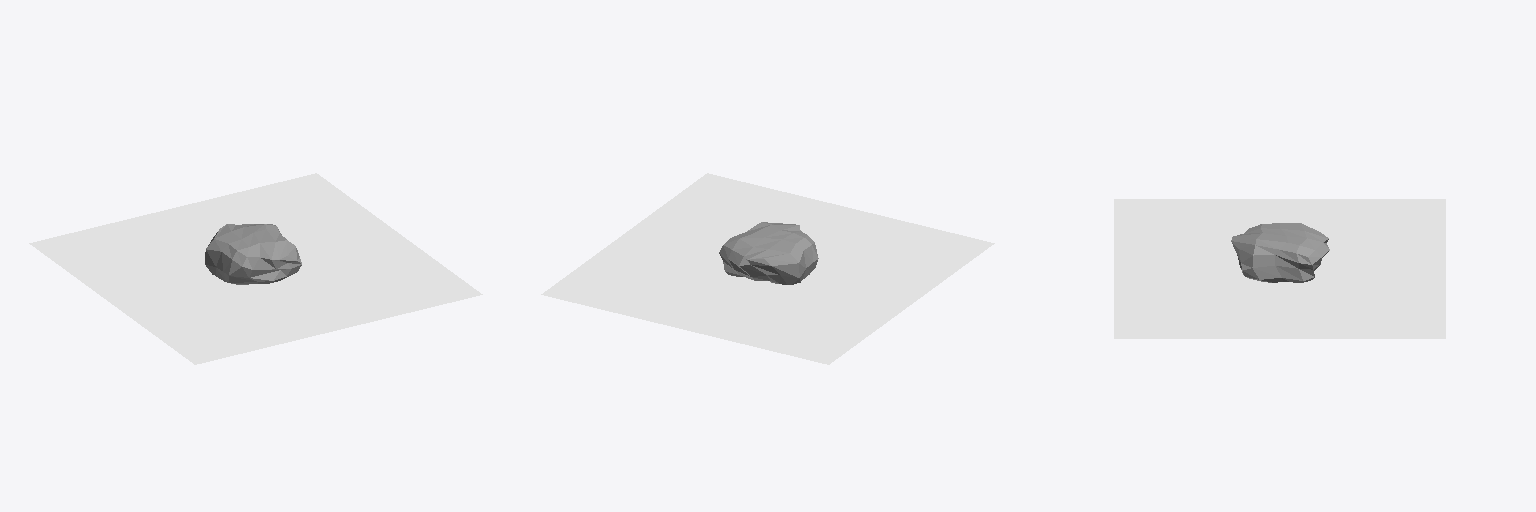
File: Rock1.obj
3 views of the same model, side by side, from view 1: azimuth 30°, elevation 25°; view 2: azimuth 150°, elevation 25°; view 3: azimuth 270°, elevation 25° (orthographic).
Parts seen in each view (by area): view 1: Plane, Cube; view 2: Plane, Cube; view 3: Plane, Cube.
Boxes of the visible parts, x1=… form: Plane: x1=29, y1=173, x2=482, y2=364; Cube: x1=205, y1=224, x2=301, y2=284; Plane: x1=541, y1=173, x2=994, y2=364; Cube: x1=719, y1=222, x2=818, y2=284; Plane: x1=1114, y1=199, x2=1445, y2=338; Cube: x1=1231, y1=223, x2=1329, y2=282.
Size of the model in its own units: 12.17 by 1.68 by 12.17.